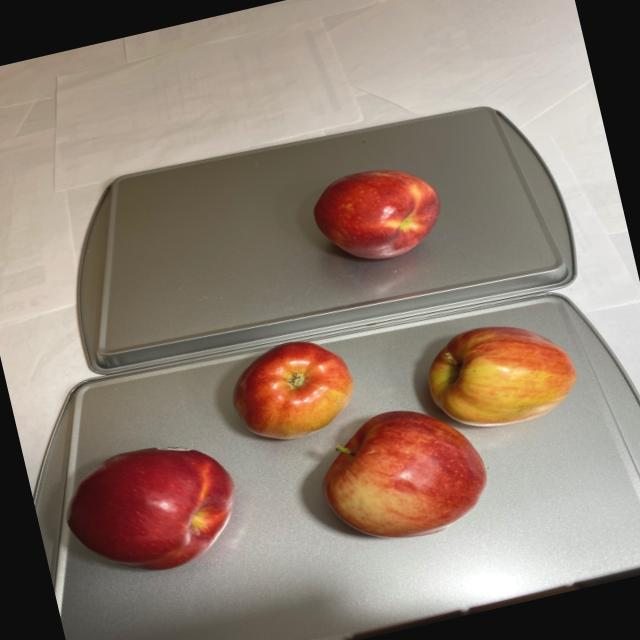apple: (33, 283, 608, 614), (301, 152, 456, 275)
